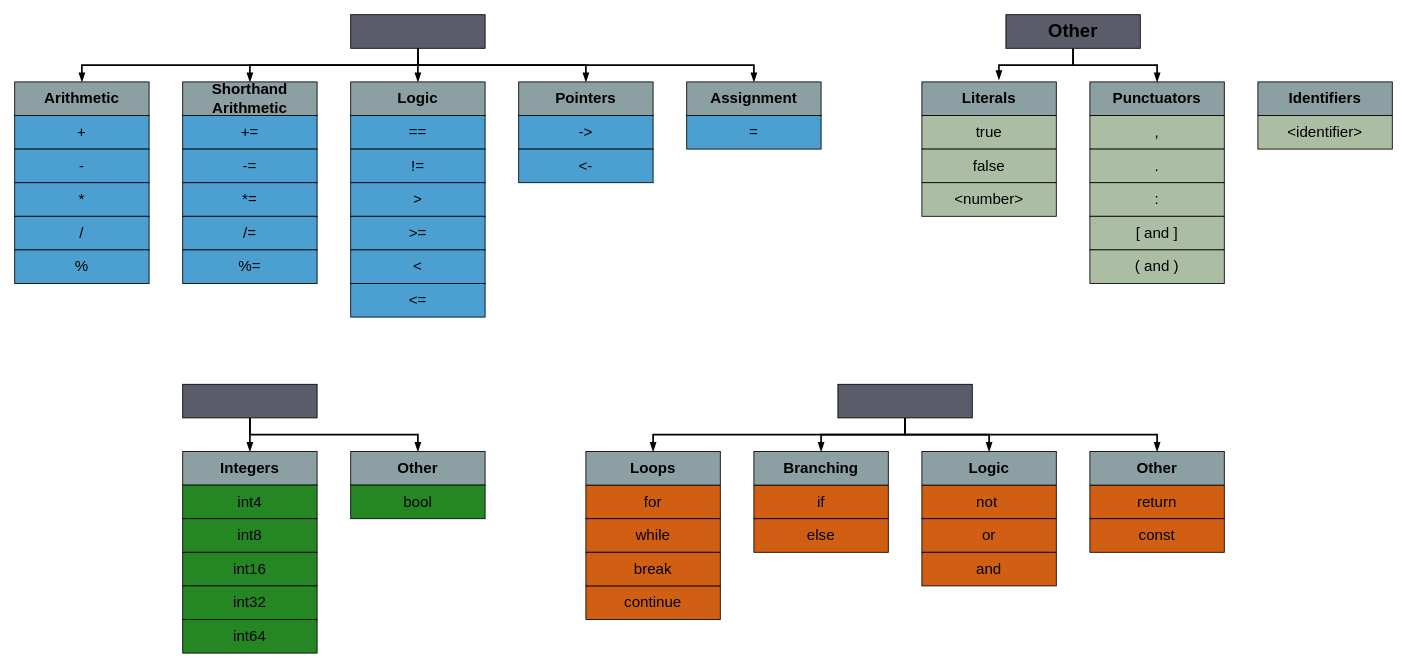
Some shapes in this 1407 by 668 pixel diagram are drawn without their labels. The centre of each missing label's shape, as x and y in pixels:
Data Types: (249,400)
Keywords: (904,400)
Operators: (417,31)
